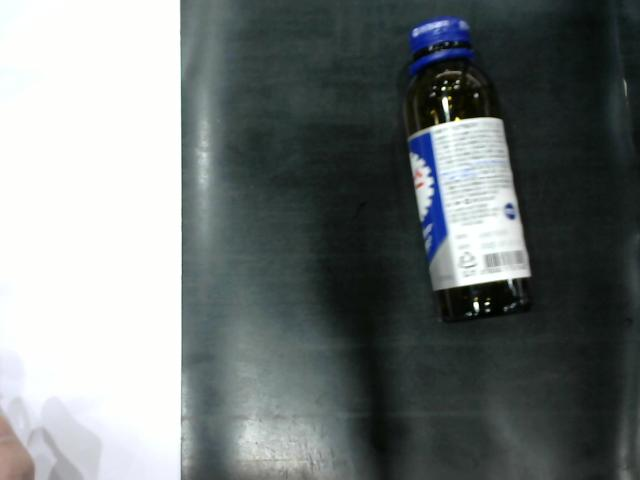glass: (387, 7, 547, 335)
